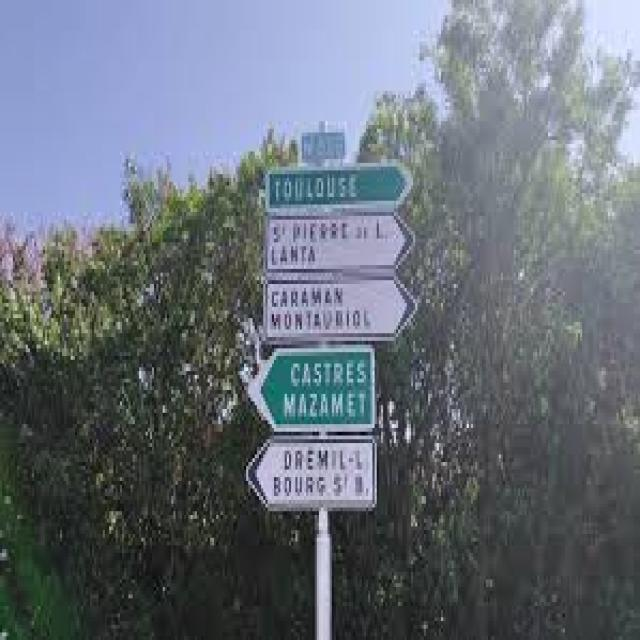direction: (262, 273, 428, 344), (244, 348, 378, 431), (243, 439, 382, 519), (261, 219, 425, 266), (265, 165, 418, 209)
